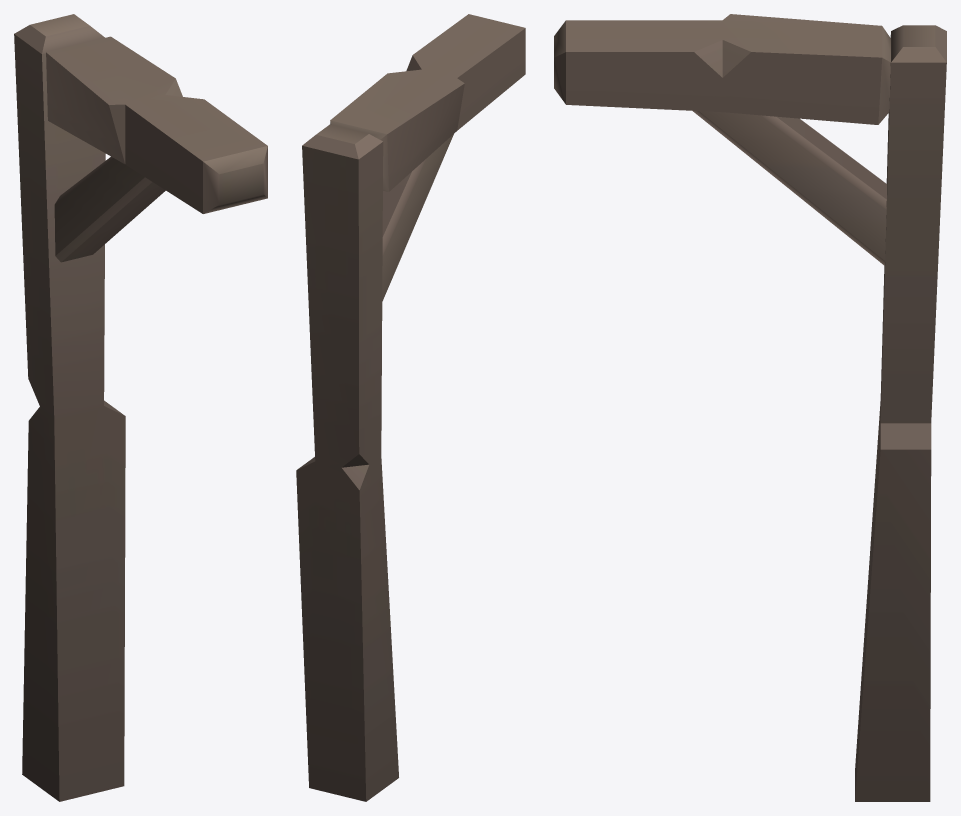
Rendered from post.glb.
3 views of the same model, side by side, from view 1: azimuth 30°, elevation 25°; view 2: azimuth 150°, elevation 25°; view 3: azimuth 270°, elevation 25° (orthographic). The views are drawn at different scales.
Visible parts, largest first — view 1: post; view 2: post; view 3: post.
Boxes of the visible parts, x1,y1,x2,y2 form: post: (14, 14, 267, 801); post: (296, 14, 525, 801); post: (554, 14, 946, 801).
Bounding box in the file's own units: 0.4238 × 3.3 × 1.57.
1 material, 1 textured.
